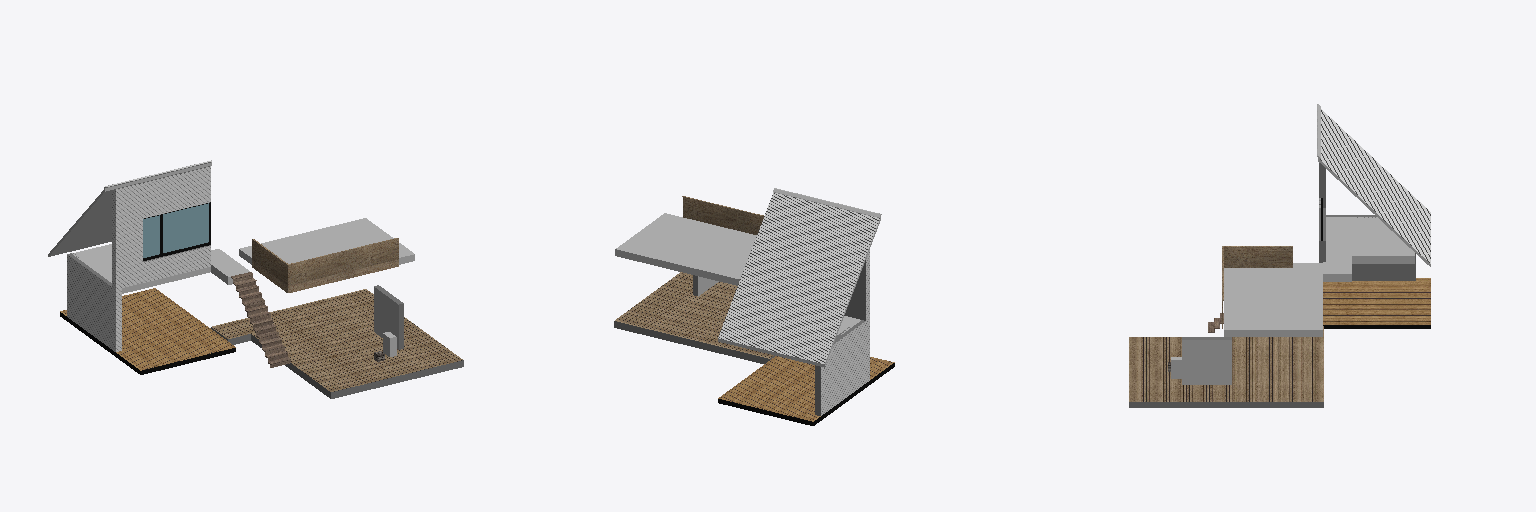
3 renders of one model, left to right at view 1: azimuth 30°, elevation 25°; view 2: azimuth 150°, elevation 25°; view 3: azimuth 270°, elevation 25°, orthographic.
Parts seen in each view (by area): view 1: UNITY_Plafond_Planche_Cedre, UNITY_Bois_Blanc_Horizontal_Existant_2, UNITY_Plafond_Planche_Cedre_Partie_Angle, UNITY_Plafond_Planche_Large, Blanc_Bois_Marche3, Aluminex_Glass, UNITY_Gris, UNITY_Teak_Pale, Sol_par_défaut, UNITY_Aluminex_Frame, UNITY_Beton, UNITY_Peint_Blanc; view 2: UNITY_Taule_4"_90deg, UNITY_Plafond_Planche_Large, UNITY_Plafond_Planche_Cedre, UNITY_Plafond_Planche_Cedre_Partie_Angle, UNITY_Bois_Blanc_Horizontal_Existant_2, Blanc_Bois_Marche3, Sol_par_défaut, UNITY_Aluminex_Frame, UNITY_Gypsum_Wall_Board, UNITY_Gris, Mur_par_défaut; view 3: UNITY_Plafond_Planche_Large, UNITY_Plafond_Planche_Cedre, UNITY_Taule_4"_90deg, UNITY_Plafond_Planche_Cedre_Partie_Angle, UNITY_Brique, Blanc_Bois_Marche3, UNITY_Gypsum_Wall_Board, Sol_par_défaut, UNITY_Peint_Blanc, Mur_par_défaut.
Part boxes in pixels (bbox=[...]): UNITY_Plafond_Planche_Cedre: bbox=[212, 289, 462, 391]; UNITY_Bois_Blanc_Horizontal_Existant_2: bbox=[67, 166, 210, 351]; UNITY_Plafond_Planche_Cedre_Partie_Angle: bbox=[60, 288, 235, 370]; UNITY_Plafond_Planche_Large: bbox=[72, 218, 414, 282]; Blanc_Bois_Marche3: bbox=[252, 238, 398, 292]; Aluminex_Glass: bbox=[143, 203, 208, 257]; UNITY_Gris: bbox=[48, 162, 211, 256]; UNITY_Teak_Pale: bbox=[231, 272, 290, 367]; Sol_par_défaut: bbox=[211, 327, 463, 398]; UNITY_Aluminex_Frame: bbox=[60, 202, 235, 374]; UNITY_Beton: bbox=[374, 287, 398, 349]; UNITY_Peint_Blanc: bbox=[122, 265, 232, 293]; UNITY_Taule_4"_90deg: bbox=[718, 192, 879, 363]; UNITY_Plafond_Planche_Large: bbox=[615, 213, 860, 334]; UNITY_Plafond_Planche_Cedre: bbox=[615, 272, 773, 358]; UNITY_Plafond_Planche_Cedre_Partie_Angle: bbox=[718, 356, 894, 421]; UNITY_Bois_Blanc_Horizontal_Existant_2: bbox=[821, 250, 869, 415]; Blanc_Bois_Marche3: bbox=[683, 196, 763, 234]; Sol_par_défaut: bbox=[614, 321, 774, 363]; UNITY_Aluminex_Frame: bbox=[718, 363, 894, 425]; UNITY_Gypsum_Wall_Board: bbox=[844, 260, 865, 320]; UNITY_Gris: bbox=[718, 218, 880, 367]; Mur_par_défaut: bbox=[693, 275, 864, 415]; UNITY_Plafond_Planche_Large: bbox=[1224, 217, 1414, 336]; UNITY_Plafond_Planche_Cedre: bbox=[1129, 326, 1323, 401]; UNITY_Taule_4"_90deg: bbox=[1320, 109, 1430, 263]; UNITY_Plafond_Planche_Cedre_Partie_Angle: bbox=[1323, 278, 1430, 324]; UNITY_Brique: bbox=[1182, 340, 1231, 384]; Blanc_Bois_Marche3: bbox=[1222, 246, 1292, 328]; UNITY_Gypsum_Wall_Board: bbox=[1319, 198, 1415, 280]; Sol_par_défaut: bbox=[1129, 402, 1323, 407]; UNITY_Peint_Blanc: bbox=[1323, 256, 1414, 281]; Mur_par_défaut: bbox=[1182, 163, 1376, 339].
Size of the model in its own units: 39.93 by 25.43 by 39.54.
20 materials, 8 textured.